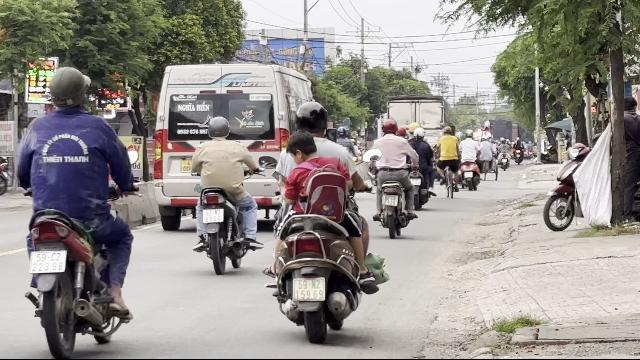helmet: (44, 66, 92, 112), (294, 100, 328, 134), (206, 116, 230, 138), (380, 119, 398, 136)
licenseplate: (30, 251, 66, 273), (293, 279, 325, 301), (202, 209, 224, 222), (382, 194, 398, 206)
motorcyclist: (10, 65, 140, 356), (262, 100, 391, 344), (189, 114, 261, 272), (366, 117, 418, 237)
nohelmet: (286, 129, 318, 163)
